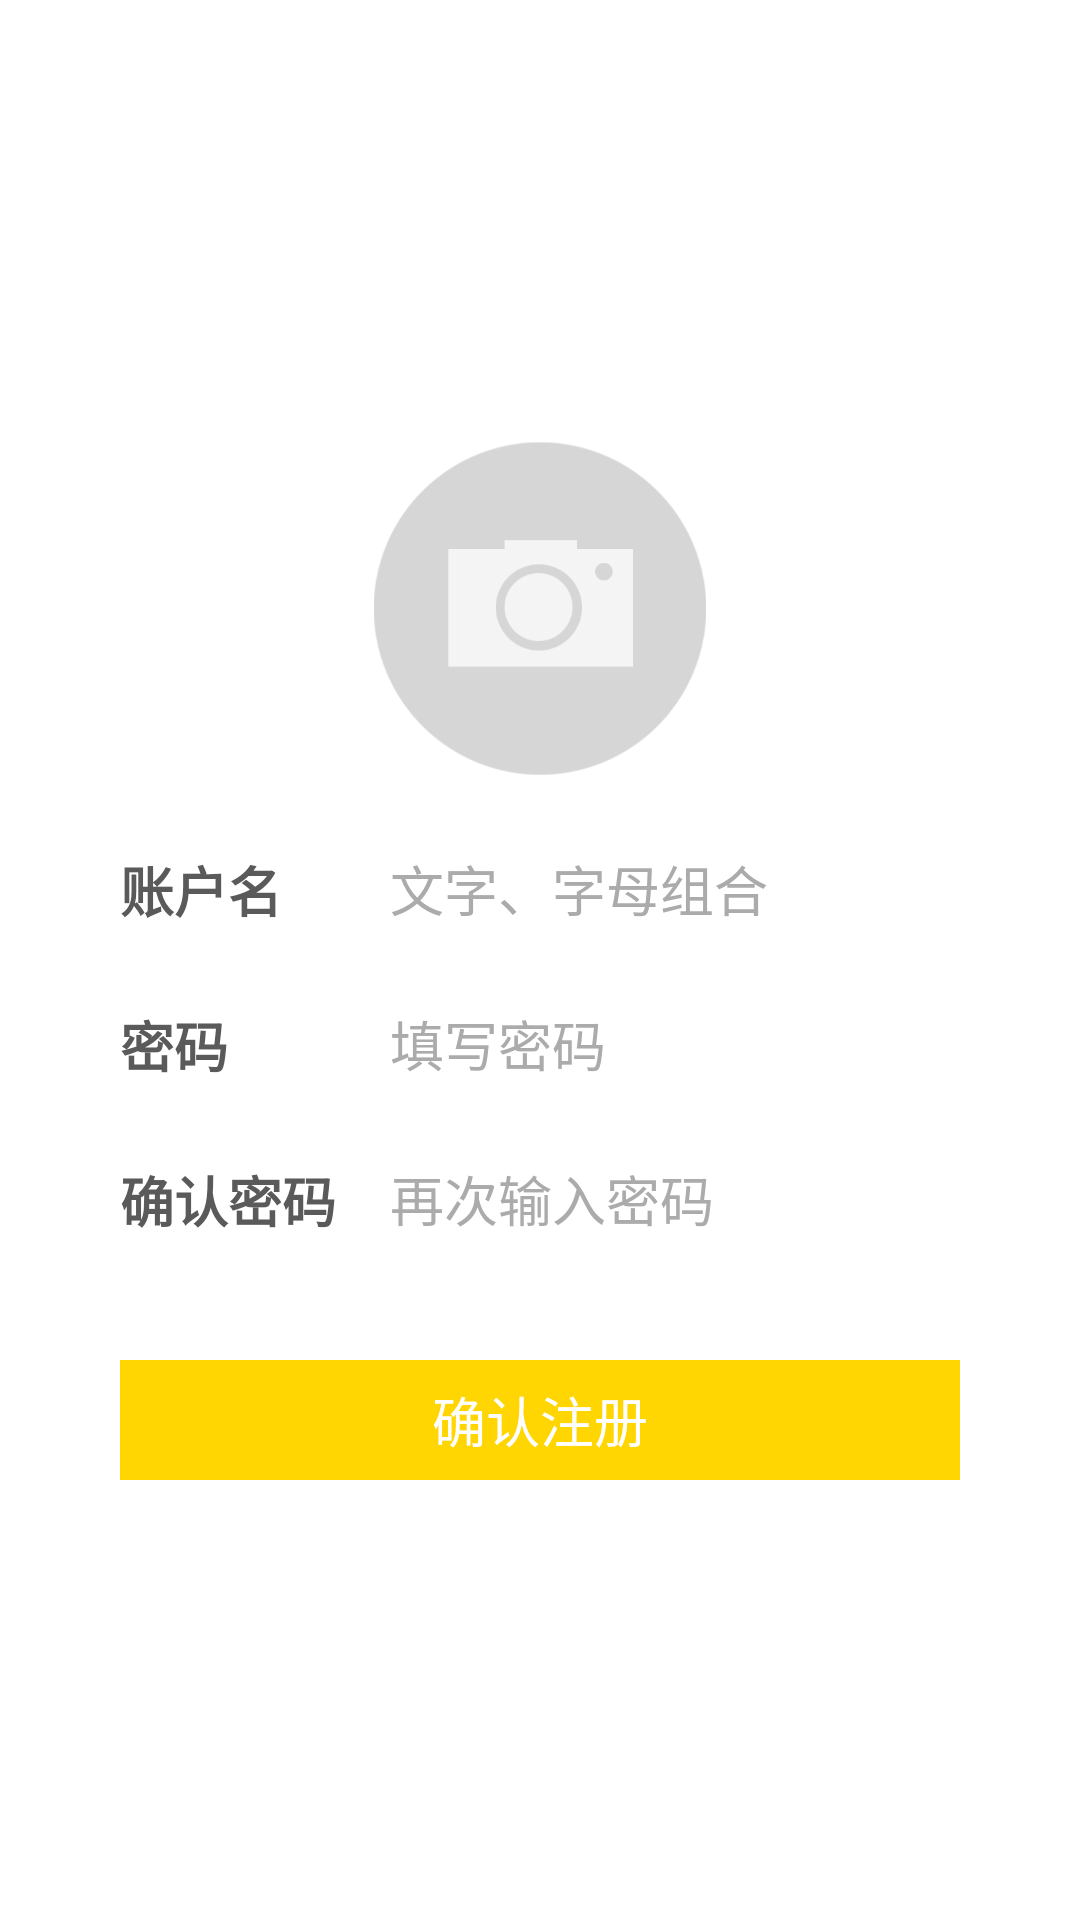

Where to tap for icons on this 1080 x 1920 app screen, as [x,y]:
camera unclick: [540,608]
